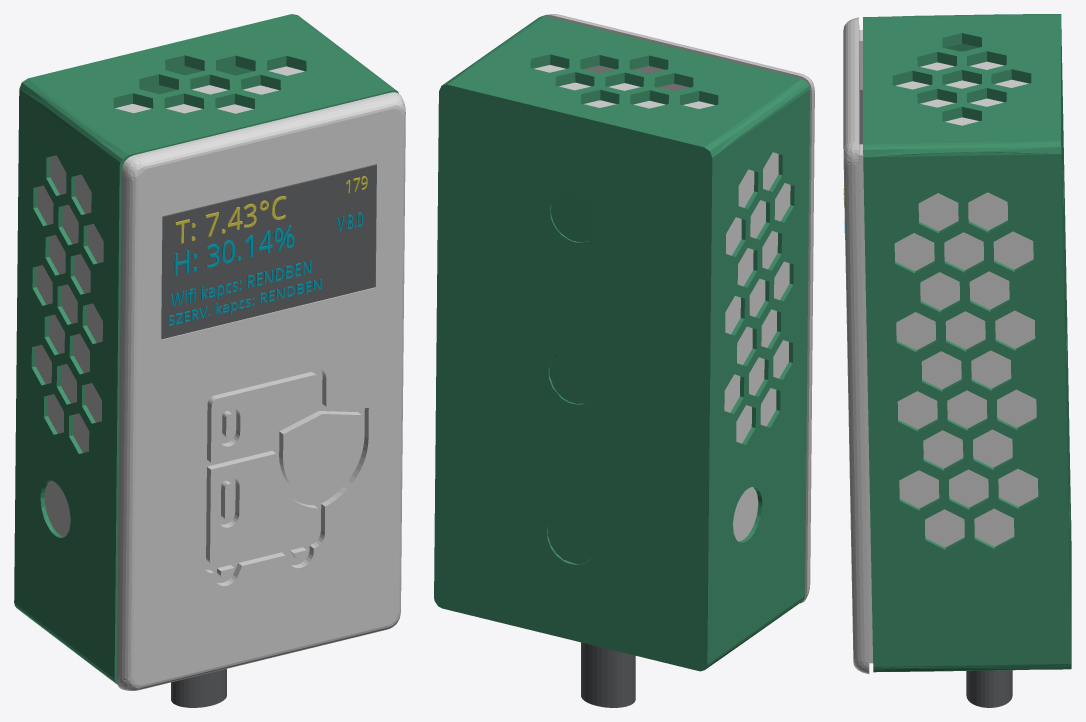
The model's file is zold_feher.glb.
The picture shows the model from 3 angles, left to right: view 1: azimuth 30°, elevation 25°; view 2: azimuth 150°, elevation 25°; view 3: azimuth 270°, elevation 25°; orthographic projection. The views are drawn at different scales.
Parts seen in each view (by area): view 1: Mesh_Mesh_head_geo.001_lambert2SG.001; view 2: Mesh_Mesh_head_geo.001_lambert2SG.001; view 3: Mesh_Mesh_head_geo.001_lambert2SG.001.
Boxes of the visible parts, x1,y1,x2,y2 form: Mesh_Mesh_head_geo.001_lambert2SG.001: [14, 14, 405, 707]; Mesh_Mesh_head_geo.001_lambert2SG.001: [434, 14, 814, 707]; Mesh_Mesh_head_geo.001_lambert2SG.001: [843, 14, 1071, 707].
Size of the model in its own units: 33 by 70.15 by 23.52.
